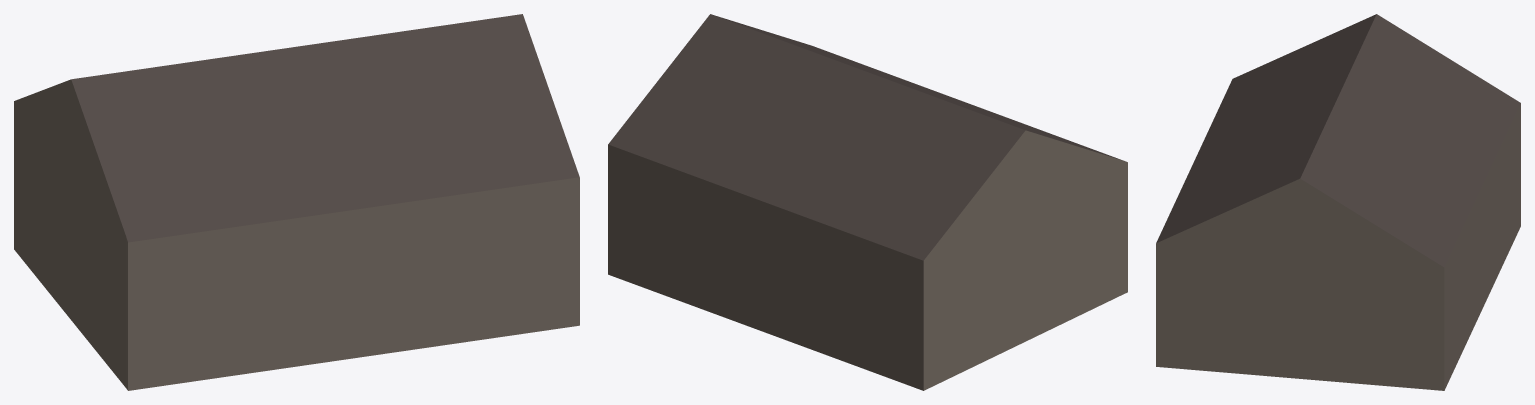
3 renders of one model, left to right at view 1: azimuth 30°, elevation 25°; view 2: azimuth 150°, elevation 25°; view 3: azimuth 270°, elevation 25°, orthographic. The views are drawn at different scales.
Visible parts, largest first — view 1: HP-w859082546; view 2: HP-w859082546; view 3: HP-w859082546.
Part boxes in pixels (left/top/right/bottom): HP-w859082546: left=14, top=14, right=579, bottom=390; HP-w859082546: left=608, top=14, right=1127, bottom=390; HP-w859082546: left=1156, top=14, right=1520, bottom=390.
Size of the model in its own units: 19.68 by 9.74 by 16.08.
